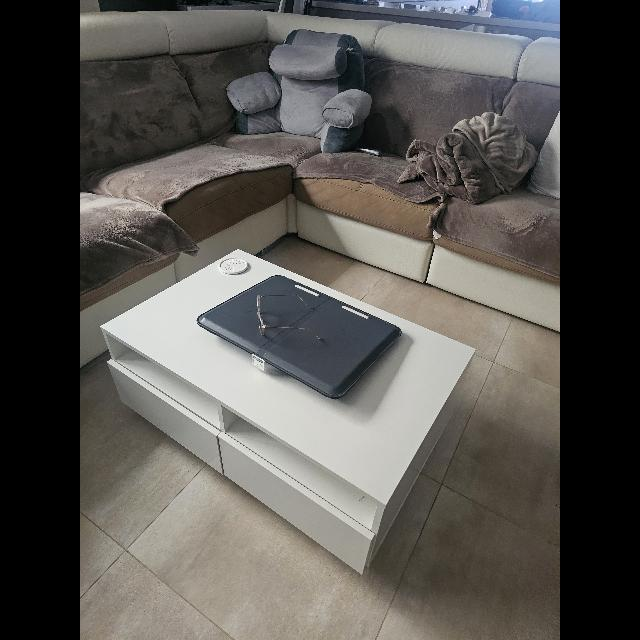glasses: (256, 294, 322, 340)
